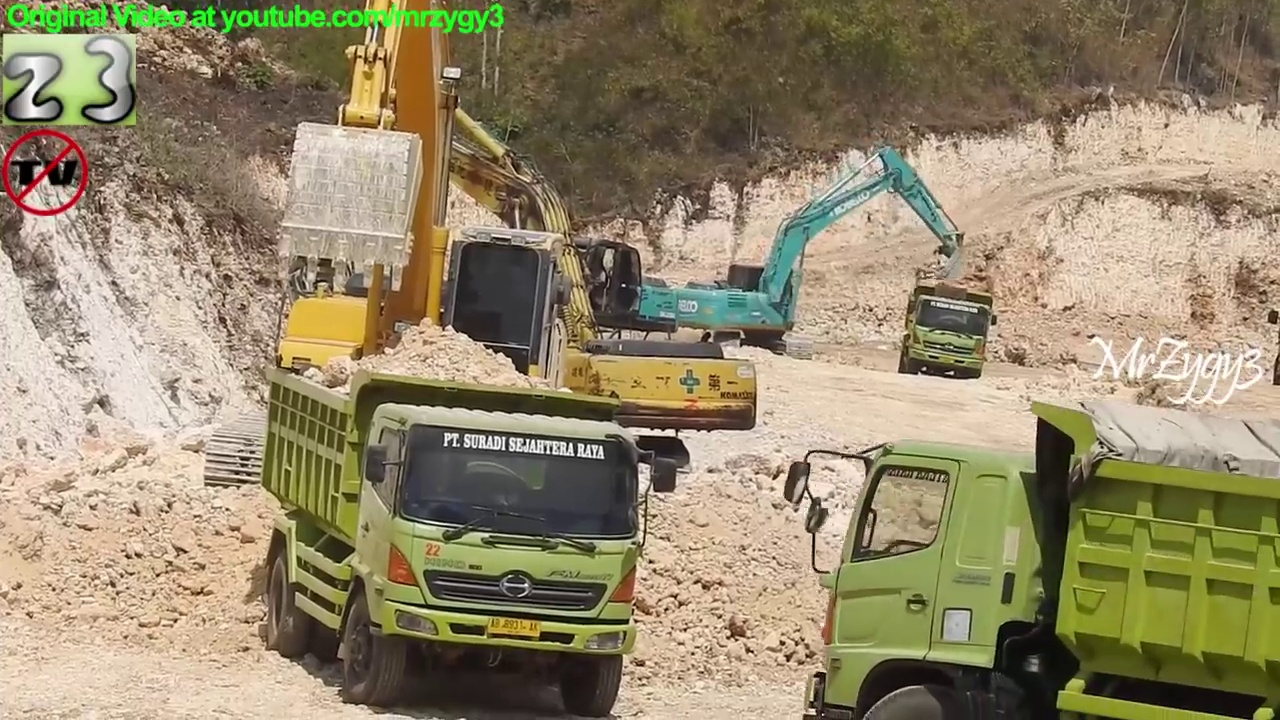excavator: (200, 1, 619, 505), (272, 64, 760, 486), (355, 117, 681, 385), (674, 140, 974, 364)
truck: (784, 399, 1278, 720), (261, 361, 683, 720), (895, 278, 1002, 385)
